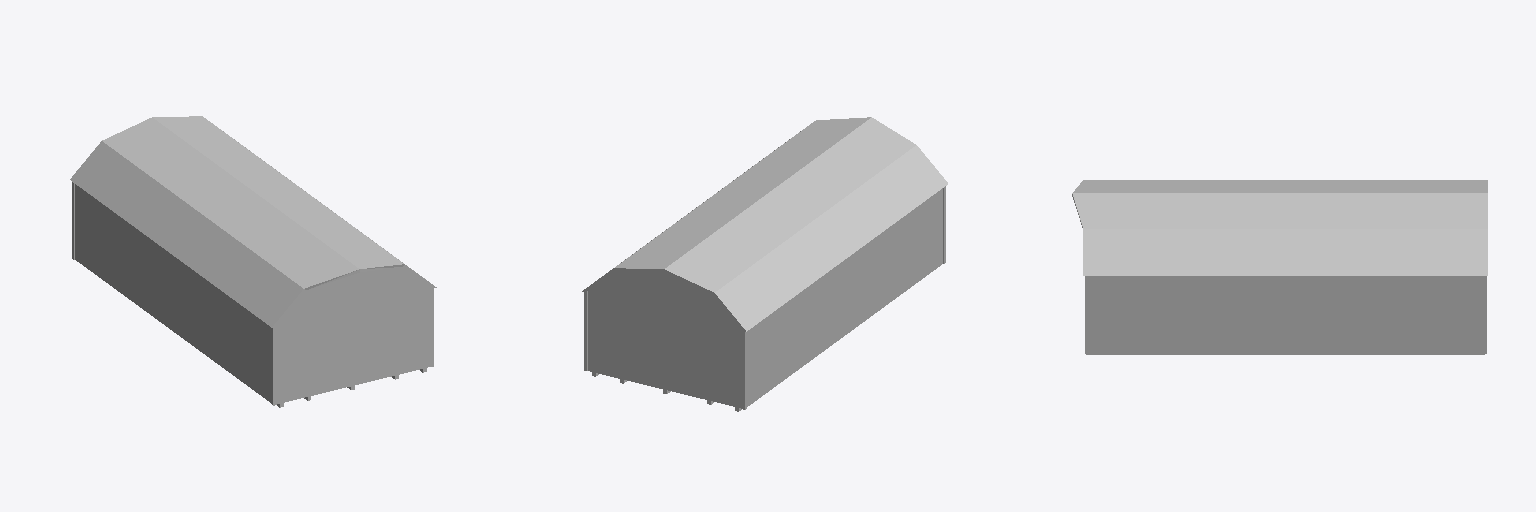
File: High Wall Barns_14x30.obj
The picture shows the model from 3 angles: view 1: azimuth 30°, elevation 25°; view 2: azimuth 150°, elevation 25°; view 3: azimuth 270°, elevation 25°; orthographic projection.
Parts seen in each view (by area): view 1: High Wall Barns_14x30.obj; view 2: High Wall Barns_14x30.obj; view 3: High Wall Barns_14x30.obj.
Boxes of the visible parts, x1=… form: High Wall Barns_14x30.obj: x1=70, y1=116, x2=436, y2=407; High Wall Barns_14x30.obj: x1=582, y1=117, x2=947, y2=411; High Wall Barns_14x30.obj: x1=1072, y1=180, x2=1487, y2=354.
Bounding box in the file's own units: 4.36 × 3.17 × 9.5.